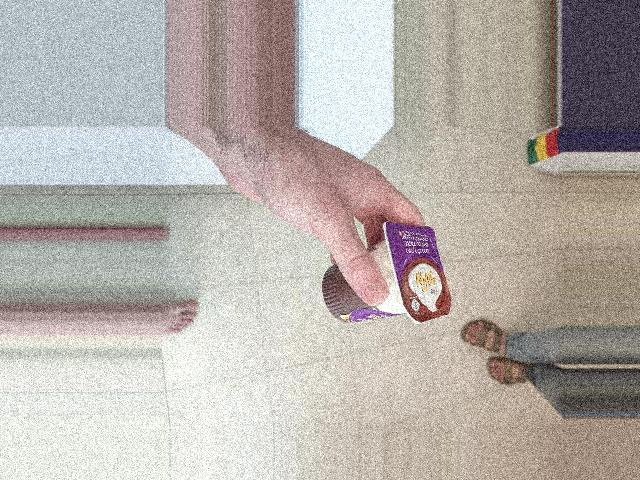milky: (373, 240, 458, 368)
